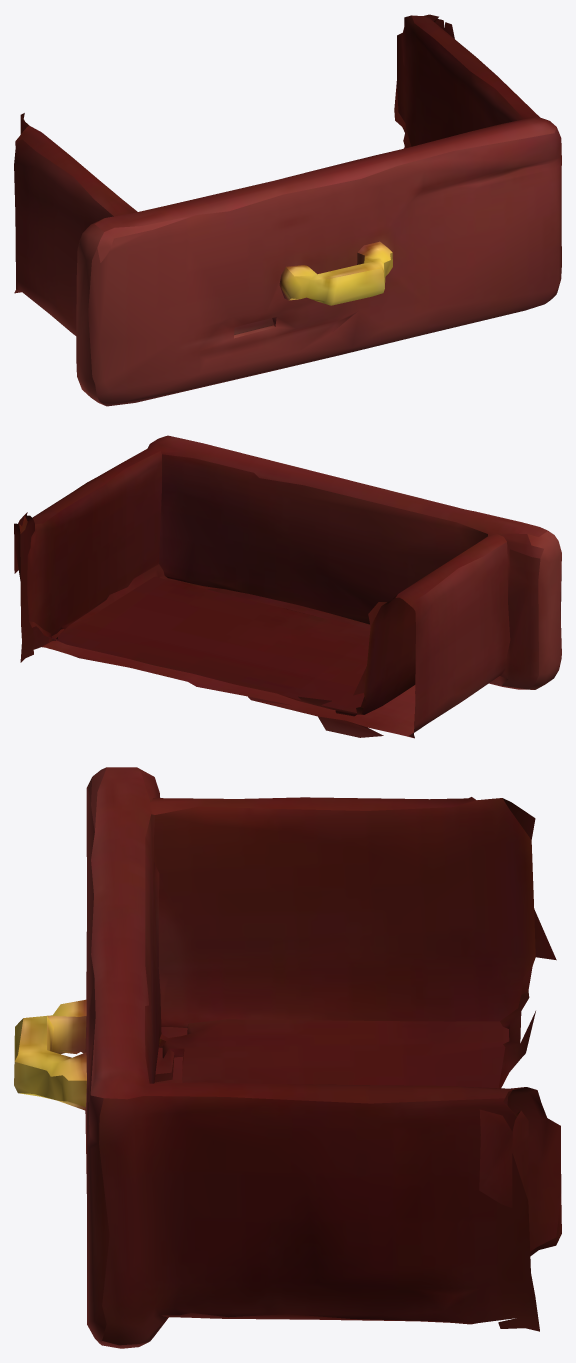
File: drawer_right.glb
3 renders of one model, top to bottom at view 1: azimuth 30°, elevation 25°; view 2: azimuth 150°, elevation 25°; view 3: azimuth 270°, elevation 25°, orthographic. The views are drawn at different scales.
Parts seen in each view (by area): view 1: geometry_0; view 2: geometry_0; view 3: geometry_0.
Part boxes in pixels (<box>): geometry_0: <box>14,14,561,406</box>; geometry_0: <box>14,435,561,738</box>; geometry_0: <box>14,767,561,1348</box>.
Size of the model in its own units: 0.739 by 0.2653 by 0.4817.
Materials: 1 (1 with a texture image).
